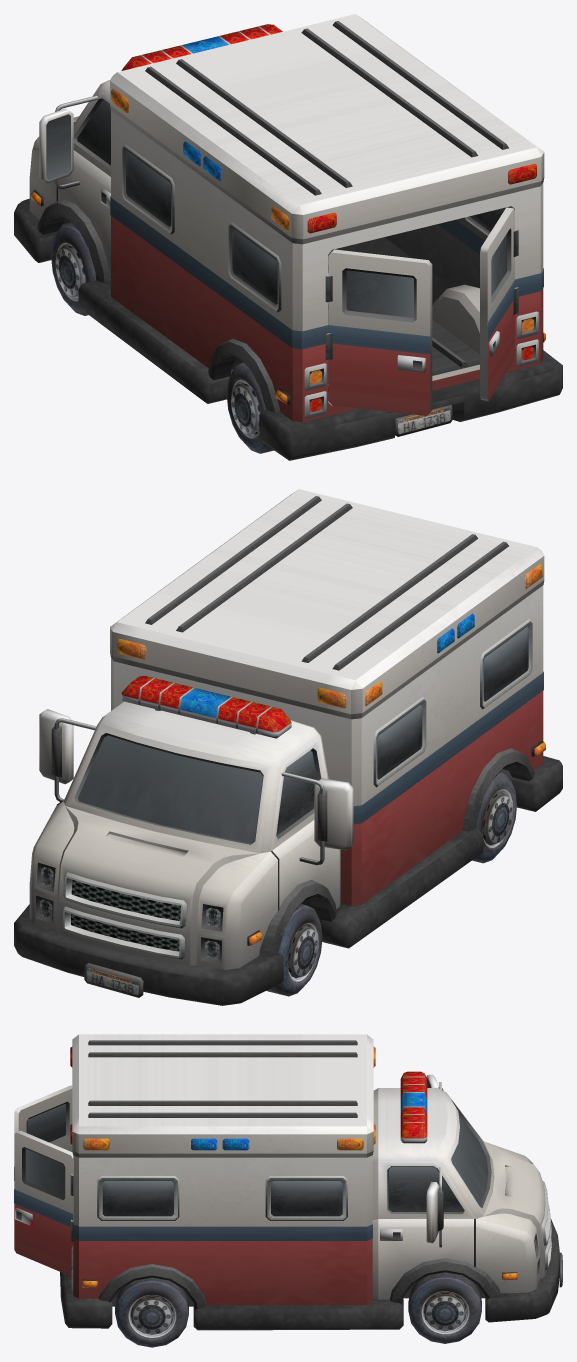
The model's file is VHC0110026.FBX.
3 renders of one model, top to bottom at view 1: azimuth 30°, elevation 25°; view 2: azimuth 150°, elevation 25°; view 3: azimuth 270°, elevation 25°, orthographic. The views are drawn at different scales.
Visible parts, largest first — view 1: smVHC0110026; view 2: smVHC0110026; view 3: smVHC0110026.
Boxes of the visible parts, box(x1,y1,x2,y2) form: smVHC0110026: box(14, 14, 562, 460); smVHC0110026: box(14, 489, 562, 1005); smVHC0110026: box(14, 1034, 562, 1347).
Size of the model in its own units: 309 by 268 by 594.
1 material, 1 textured.
